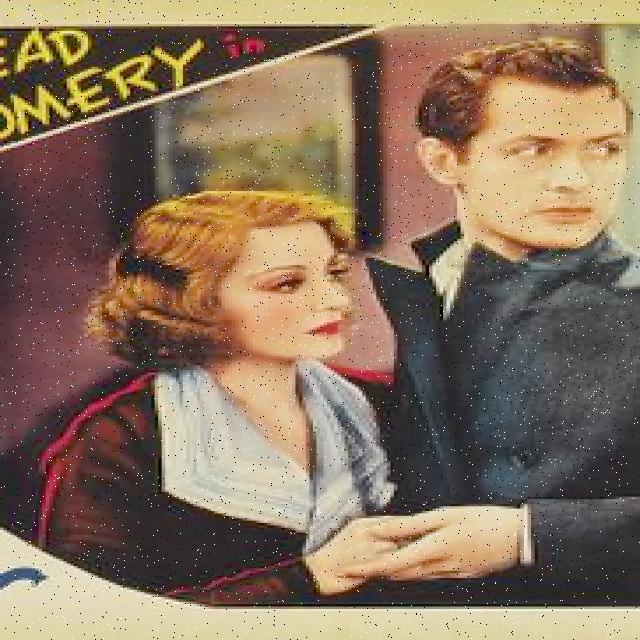movie-judul: (0, 28, 207, 135)
picture: (72, 41, 640, 605)
